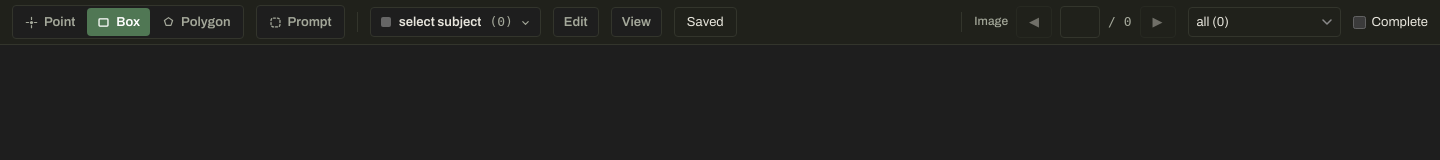
Test: AnnotateToolbar subject authoring › selects an existing subject rather than resetting its attribute definitions
The image size is (1440, 160).
Click the button "select subject (0)" at (455, 22), box [370,7,541,37]
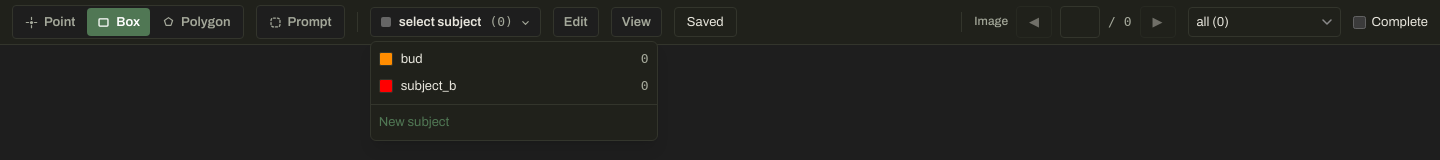
Click the button "New subject" at (414, 122), box [371,109,657,136]
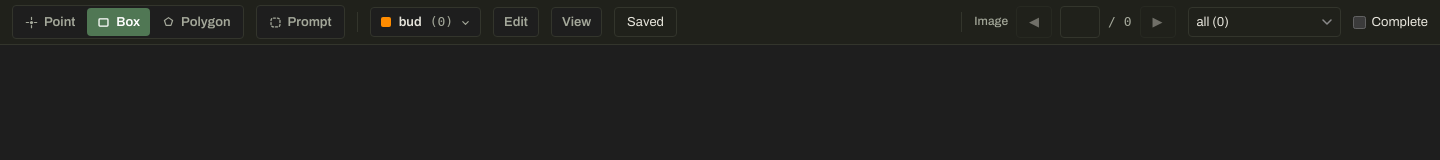
Expected: the text "bud" is shown, [399,13,422,31]
